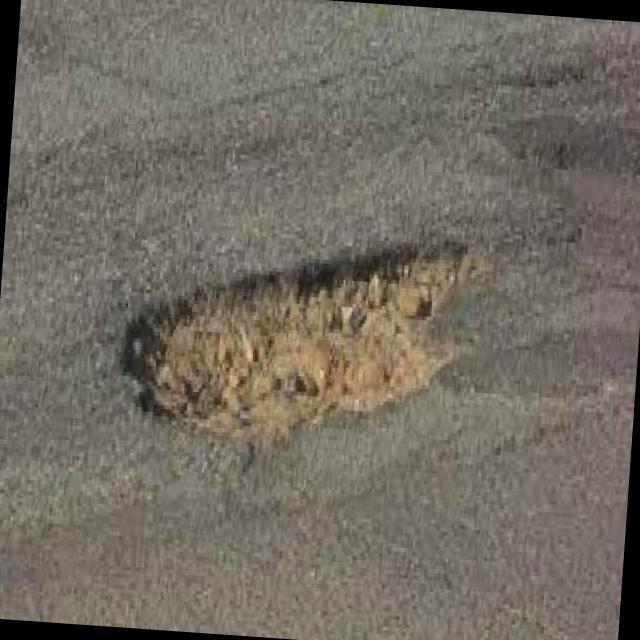Pothole: (114, 232, 496, 450)
